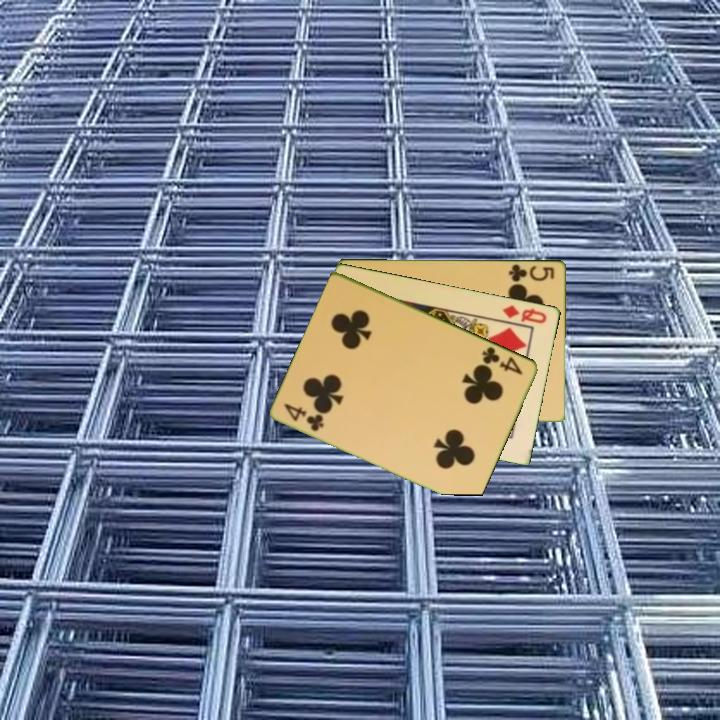4c: (478, 343, 526, 378), (280, 399, 327, 434)
5c: (505, 261, 558, 284)
Qd: (499, 301, 550, 326)
